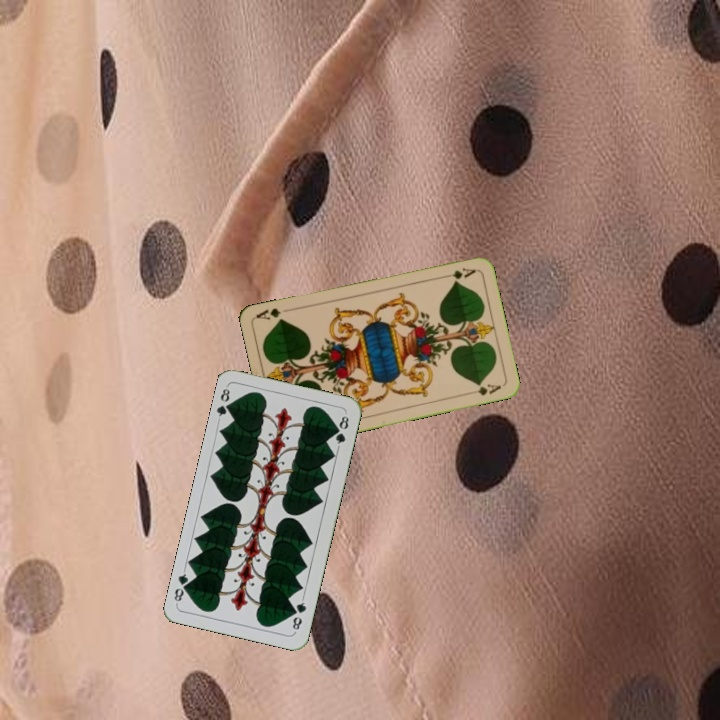G8: (213, 382, 236, 423), (288, 594, 309, 634)
GA: (438, 264, 478, 282)
